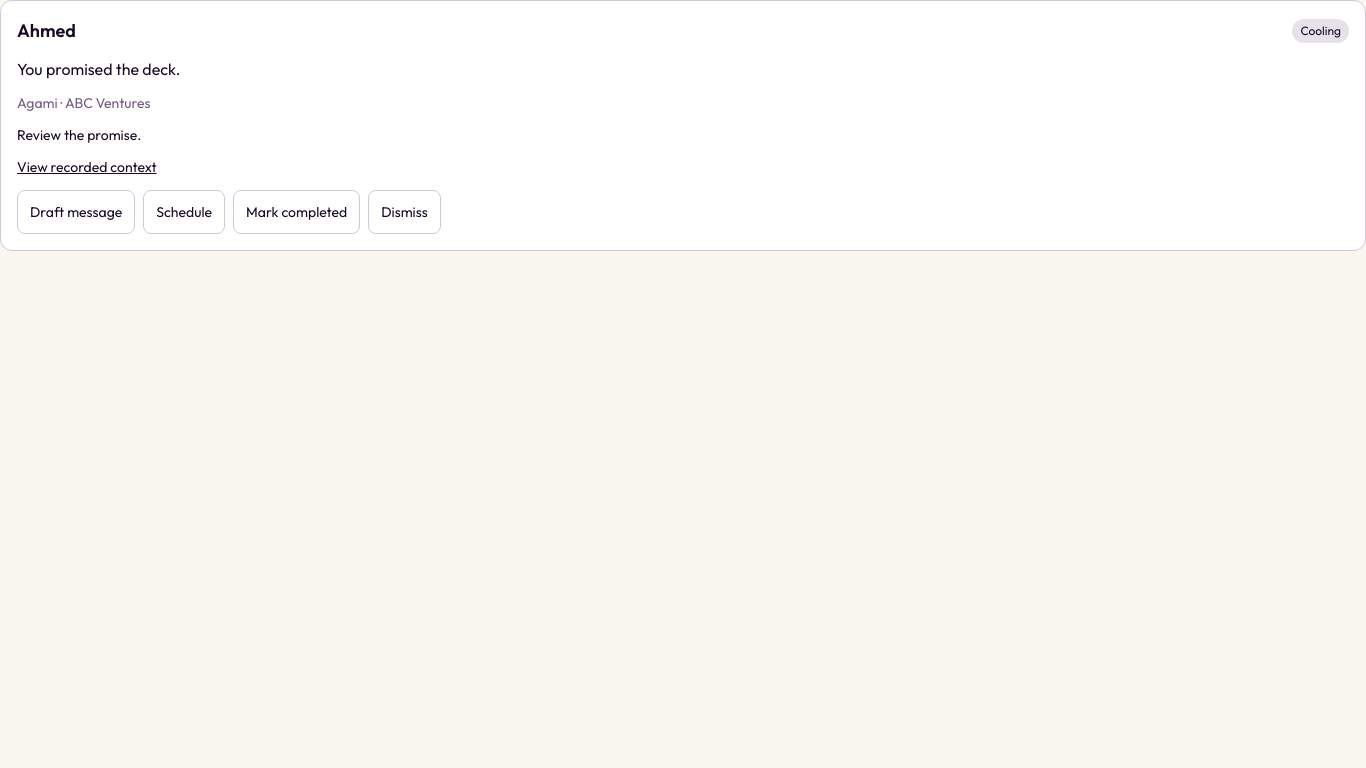
Scenario: Approved relationship actions › tells the user whether the draft was written from context or is a plain fallback
Click the button "Draft message".
click(76, 212)  # box [17,190,135,234]
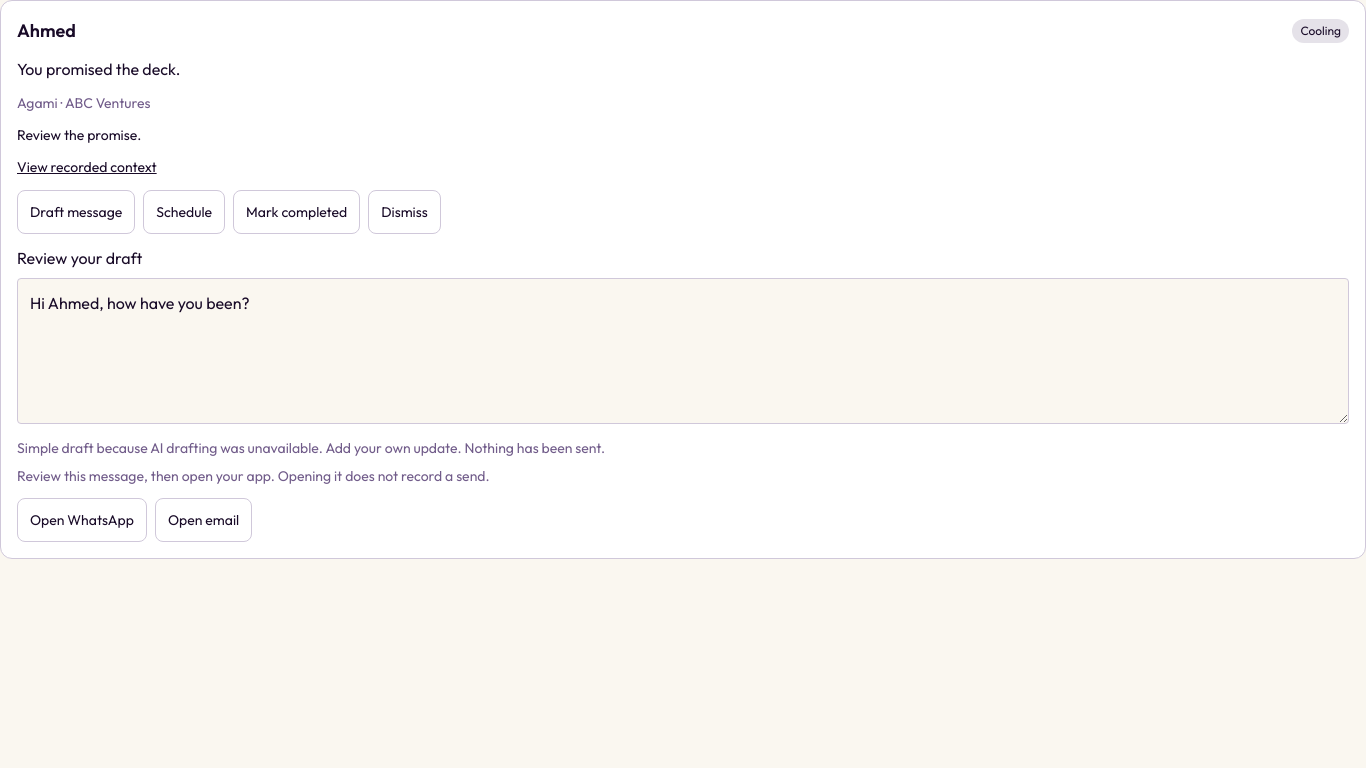
Check: the text "Simple draft because AI drafting was unavailable" is shown, box [17,439,605,457]
Check: the text box named "Follow-up draft" holds "Hi Ahmed, how have you been?", box [17,278,1349,424]
